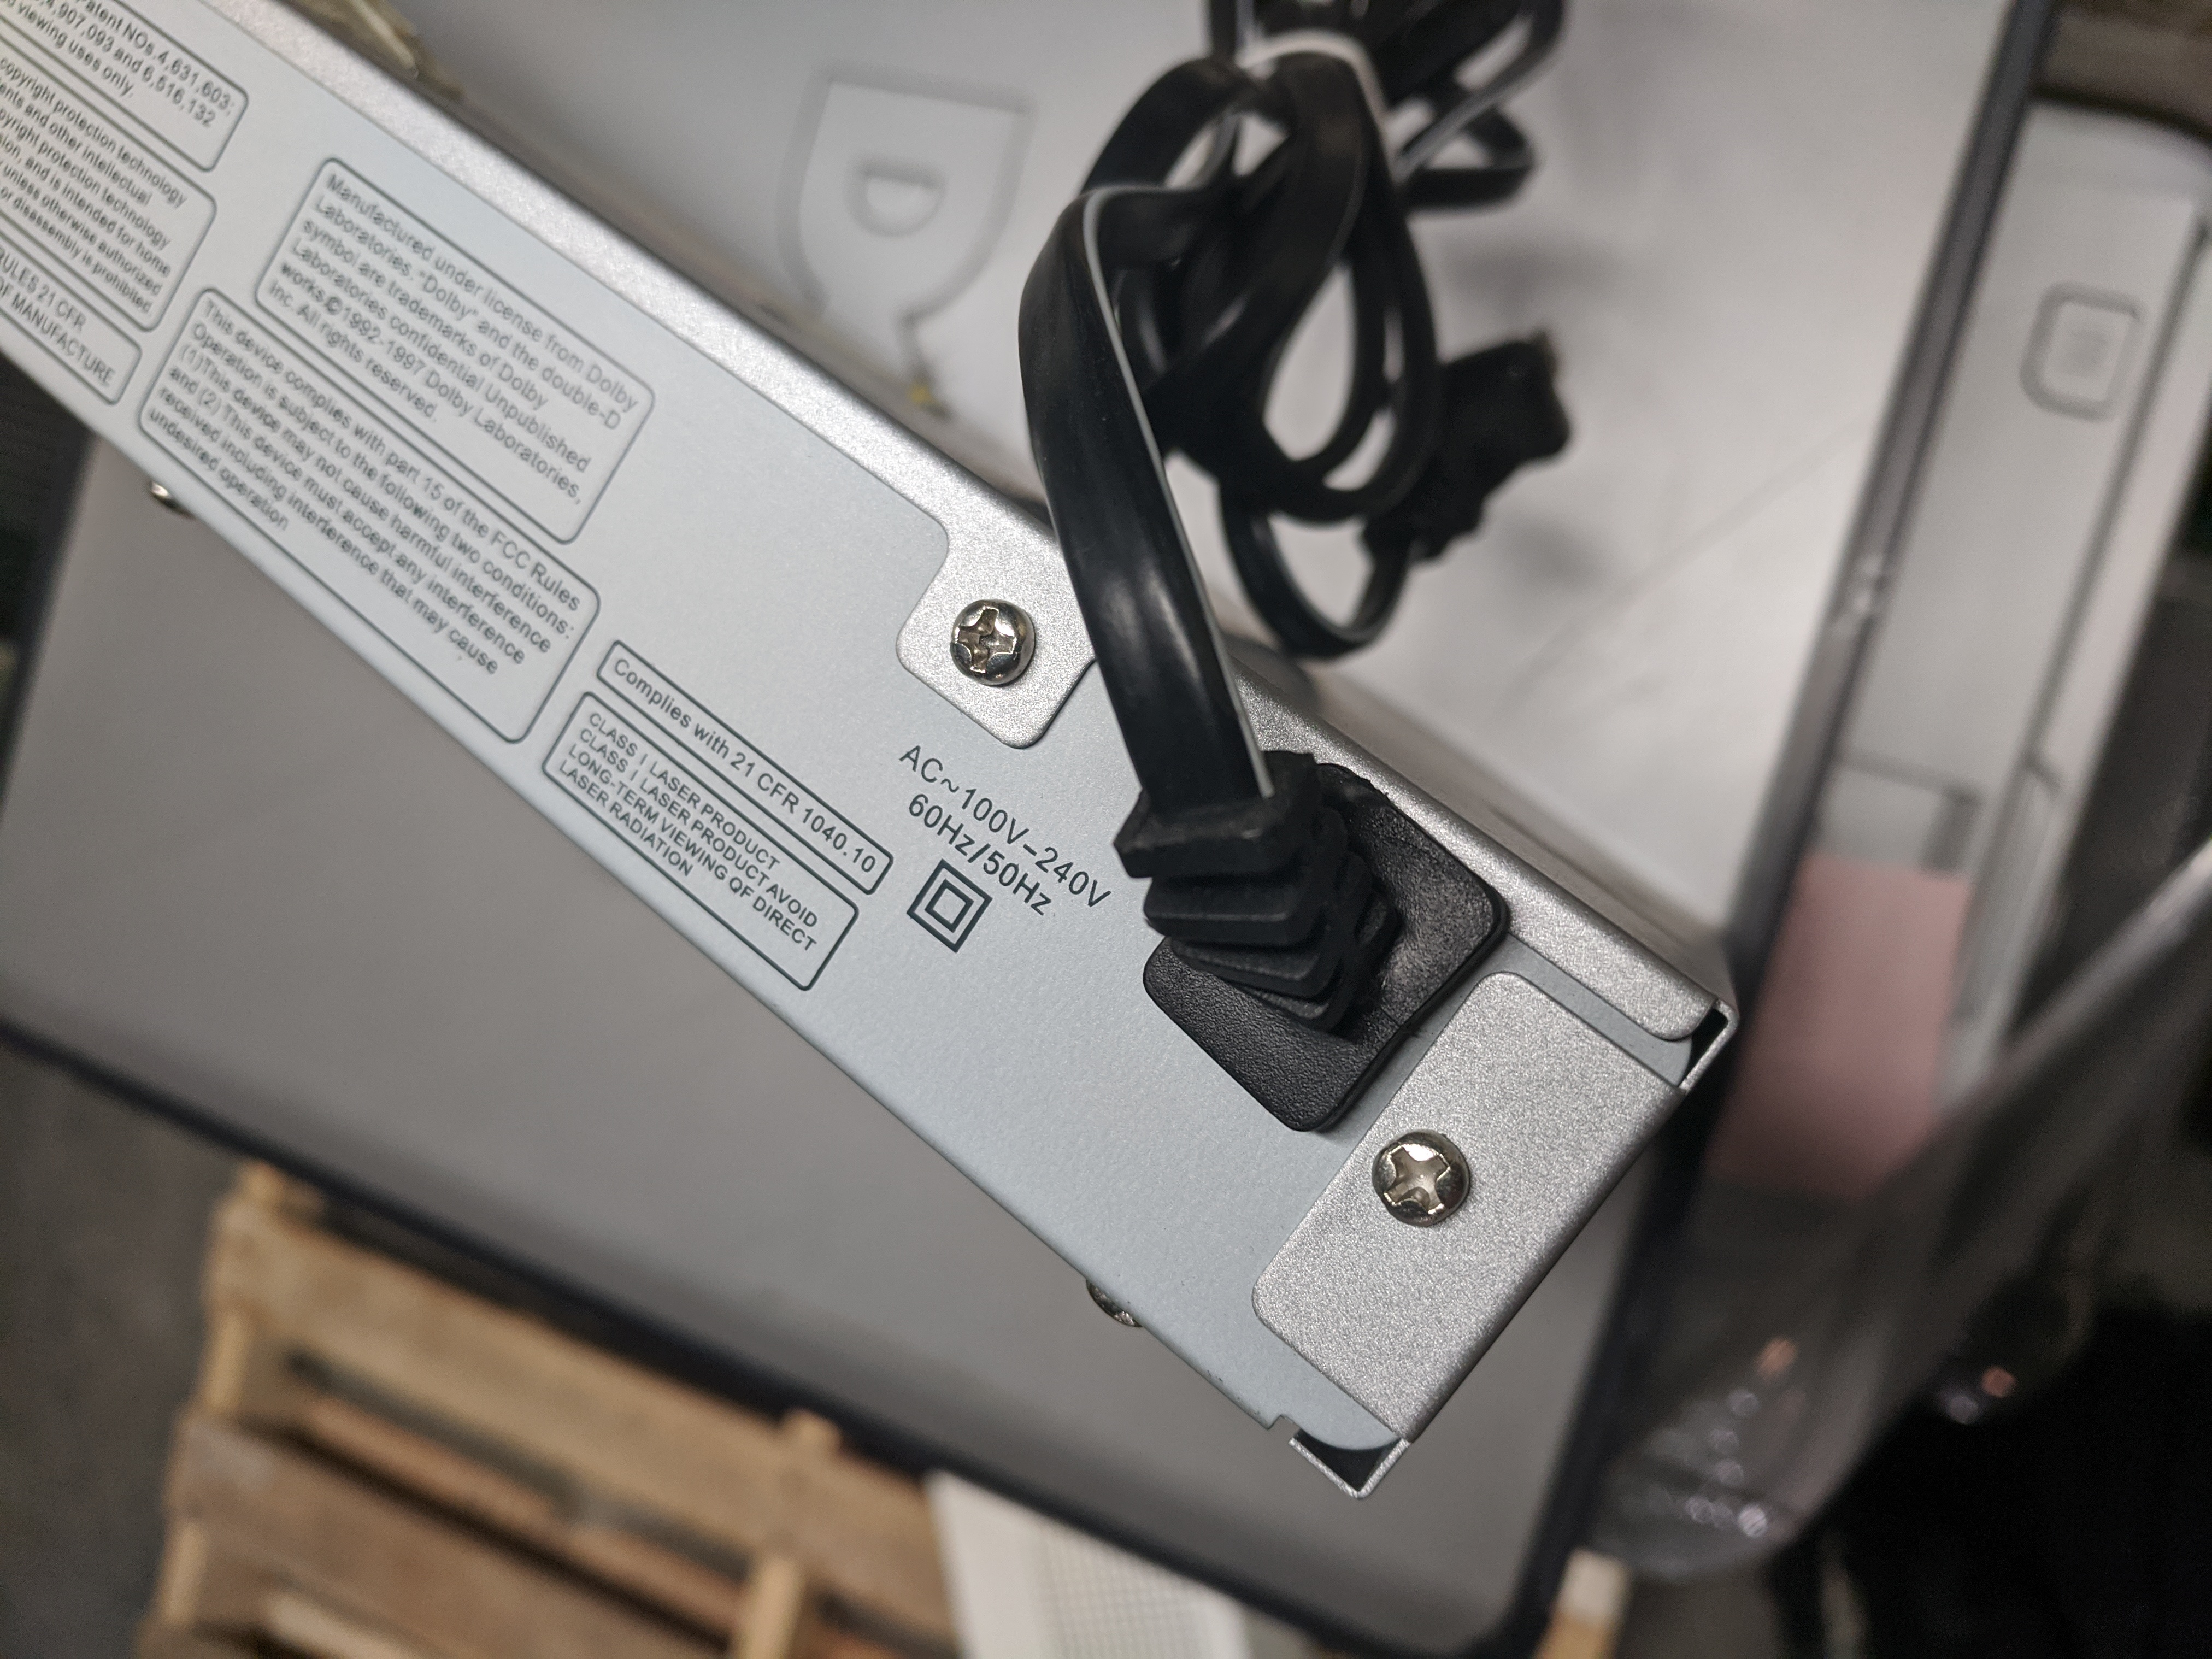cross_recessed_screw: (1359, 1126, 1477, 1236), (941, 591, 1040, 690)
